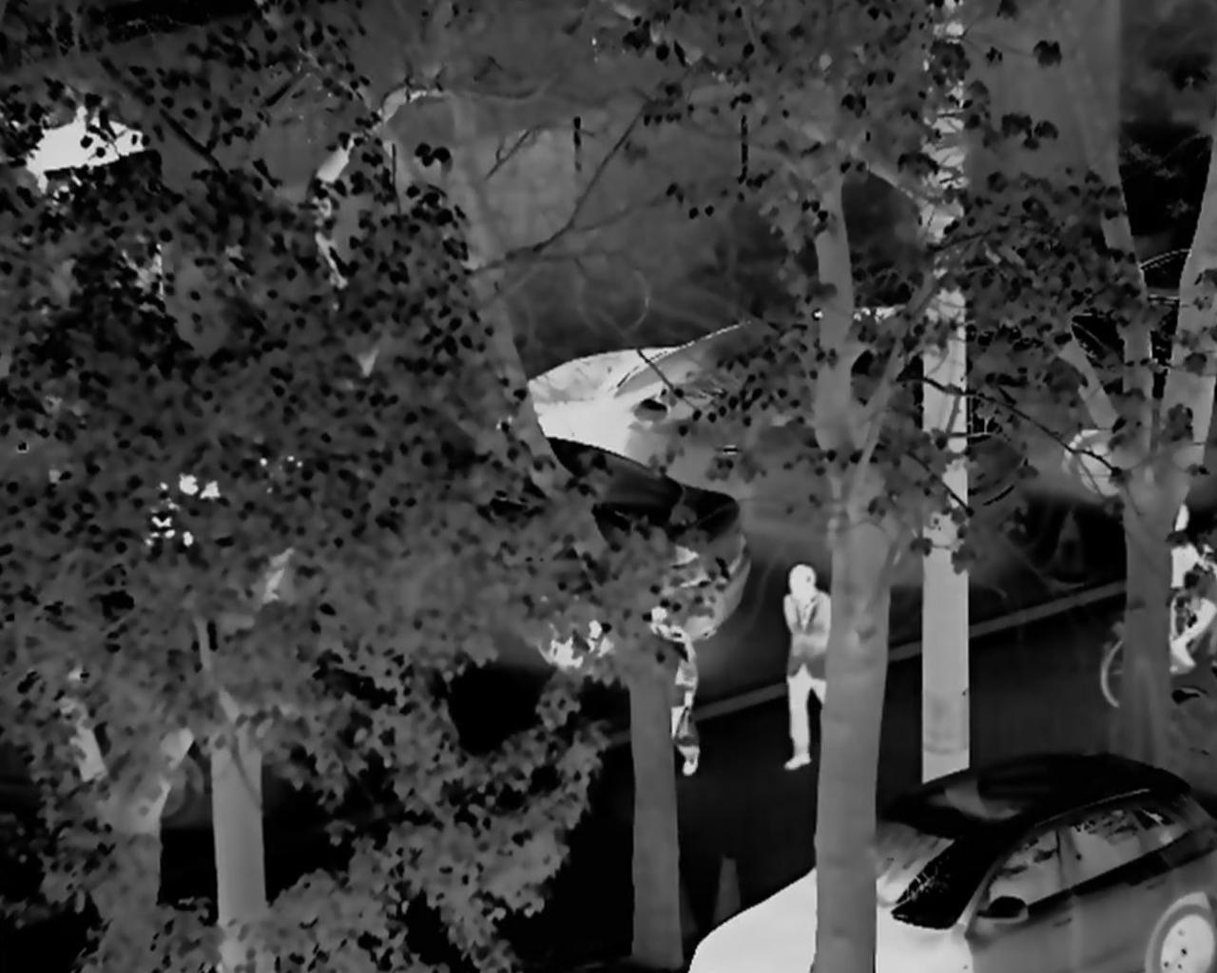person: (775, 550, 841, 769), (1140, 498, 1217, 674), (637, 596, 707, 782)
